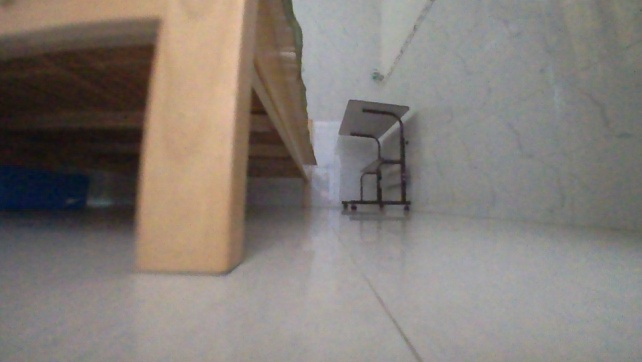bed1: (0, 0, 322, 274)
